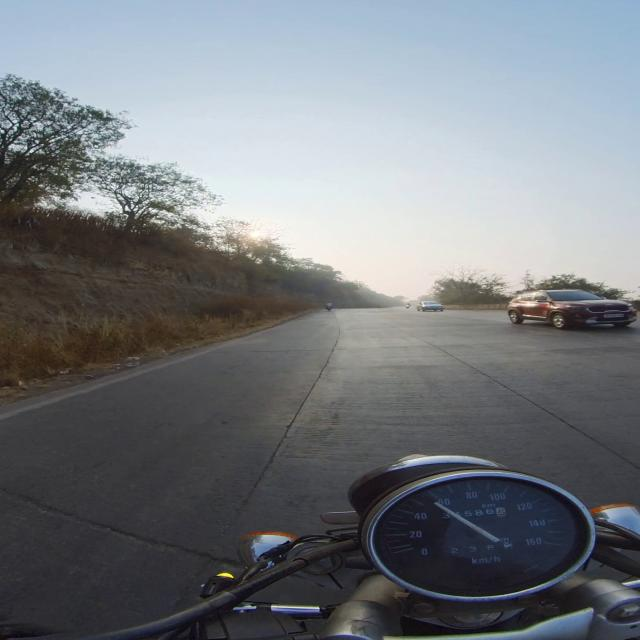car: (508, 290, 636, 328), (417, 301, 443, 311)
motorcycle: (92, 456, 639, 639)
